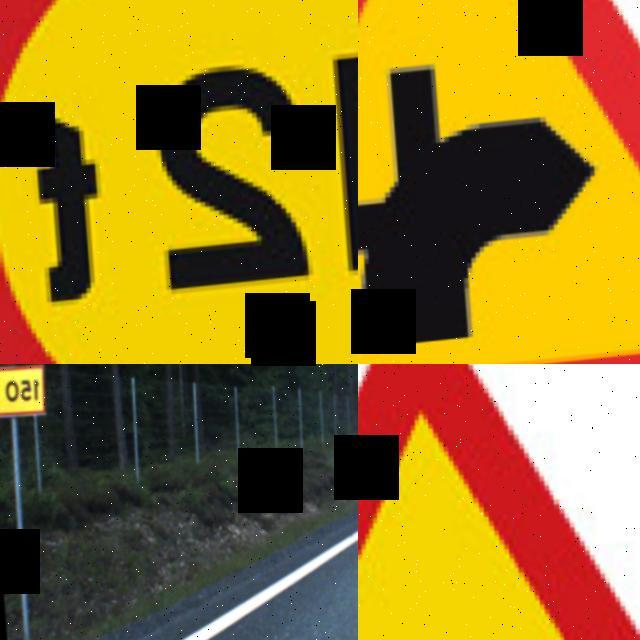141: (358, 364, 640, 640)
166: (358, 0, 640, 364)
181: (0, 364, 49, 421)
No vehicles exceeding 12 tonnes: (0, 0, 358, 364)
